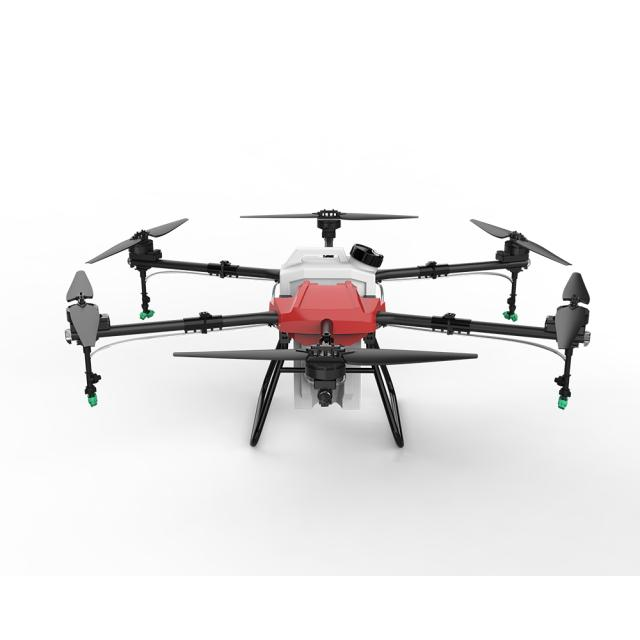drone: (41, 187, 640, 440)
